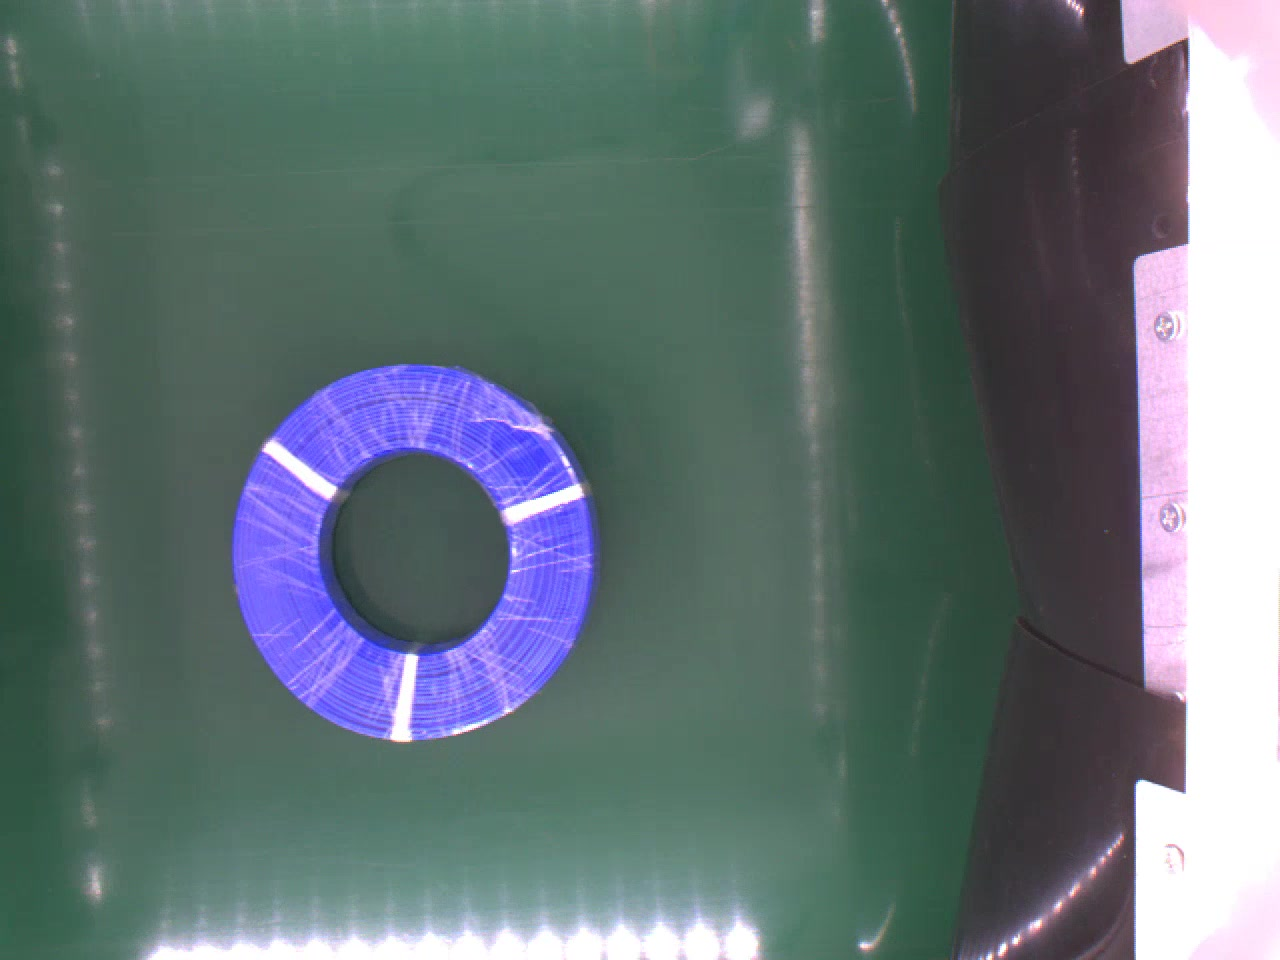blue: (228, 355, 607, 741)
